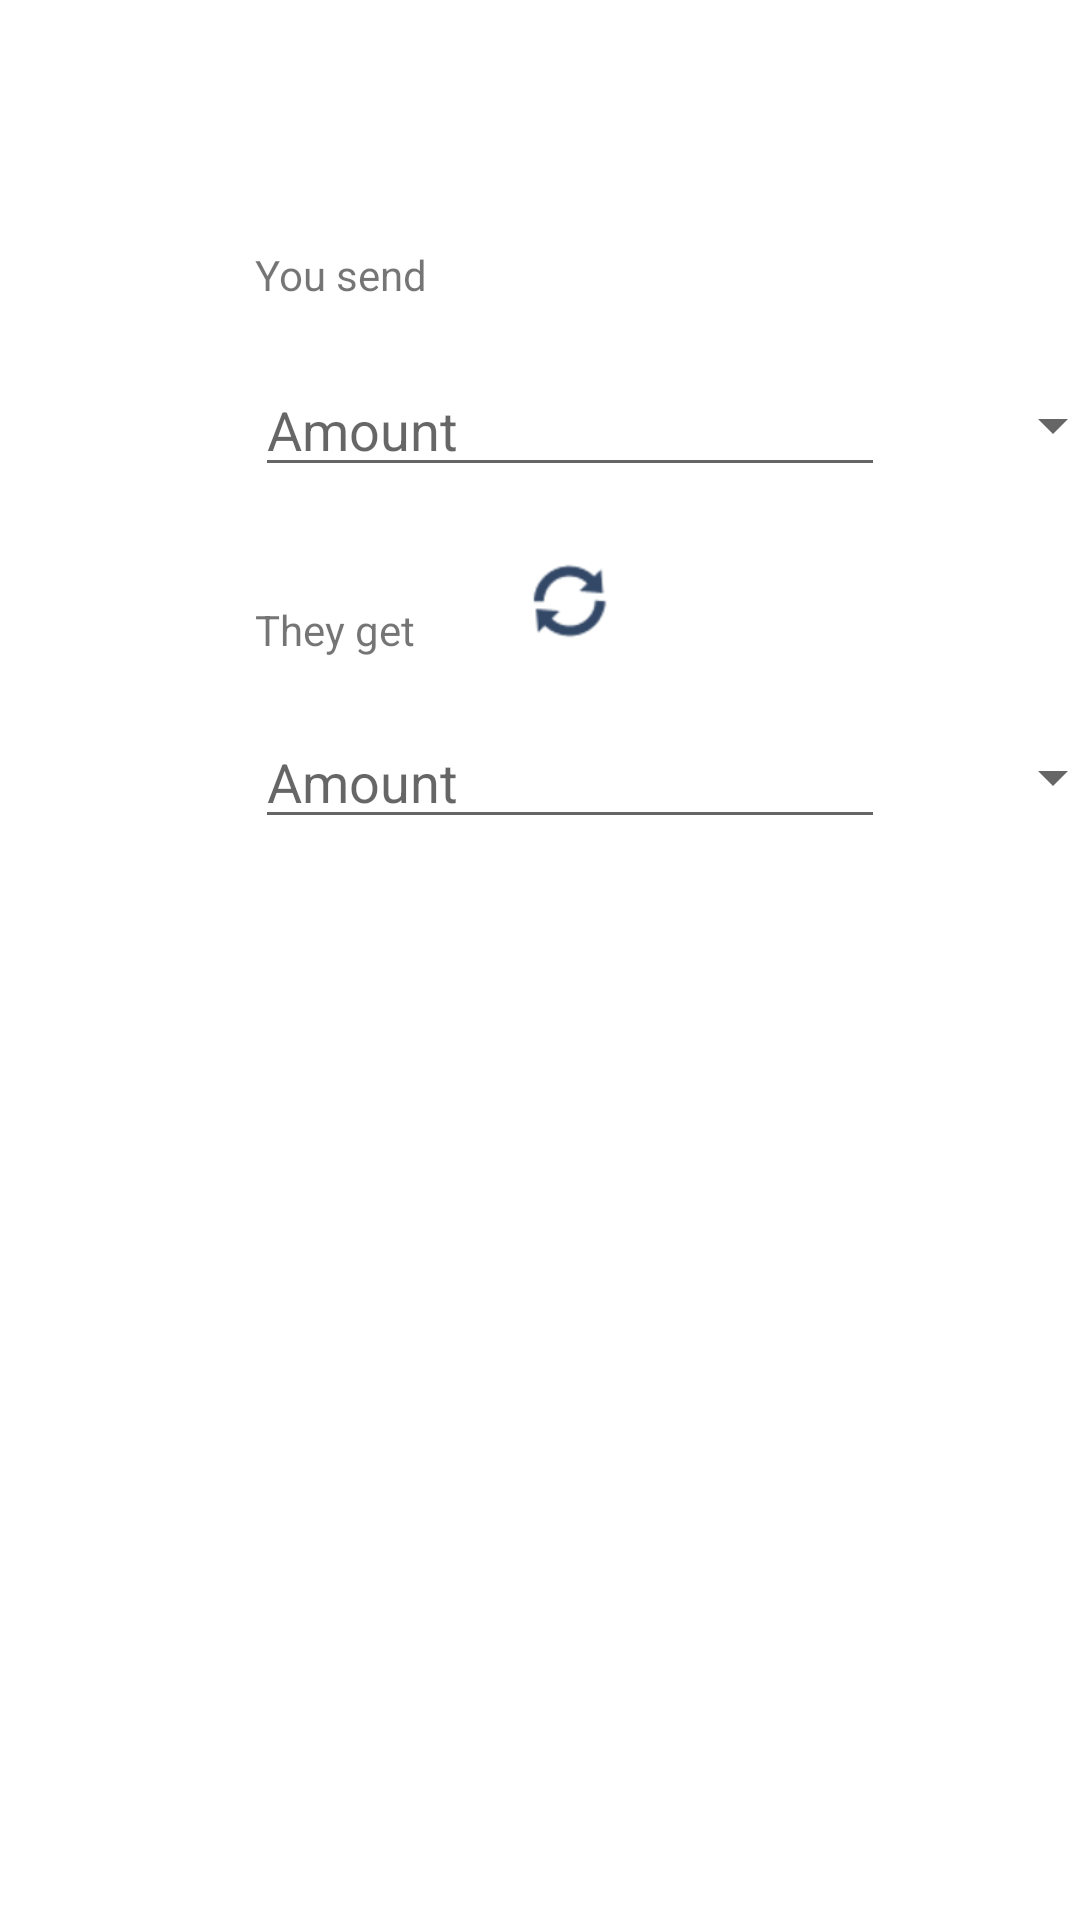

Screen size 1080x1920. Icon name, then its box in pixels as box(x1, y1, x2, y2):
popup sync: box(533, 565, 607, 637)
